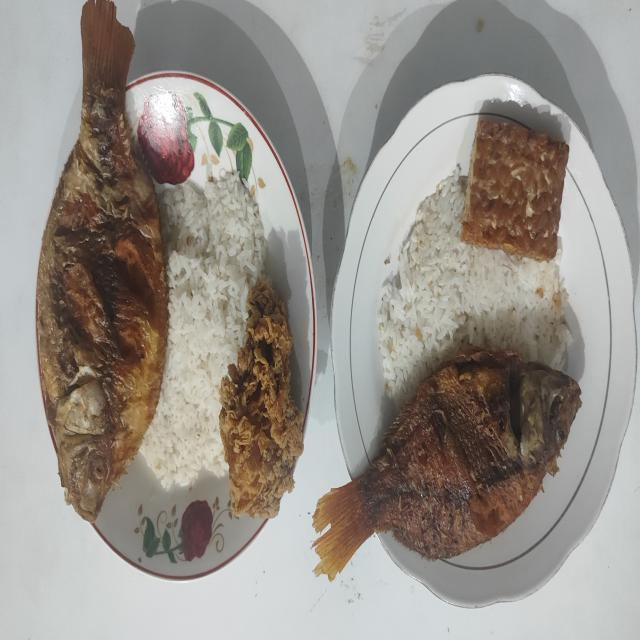ikan_mujair: (36, 0, 168, 522), (322, 8, 591, 242)
nasi_putih: (377, 165, 573, 406), (140, 173, 266, 489)
tempe_goreng: (461, 119, 569, 260)
